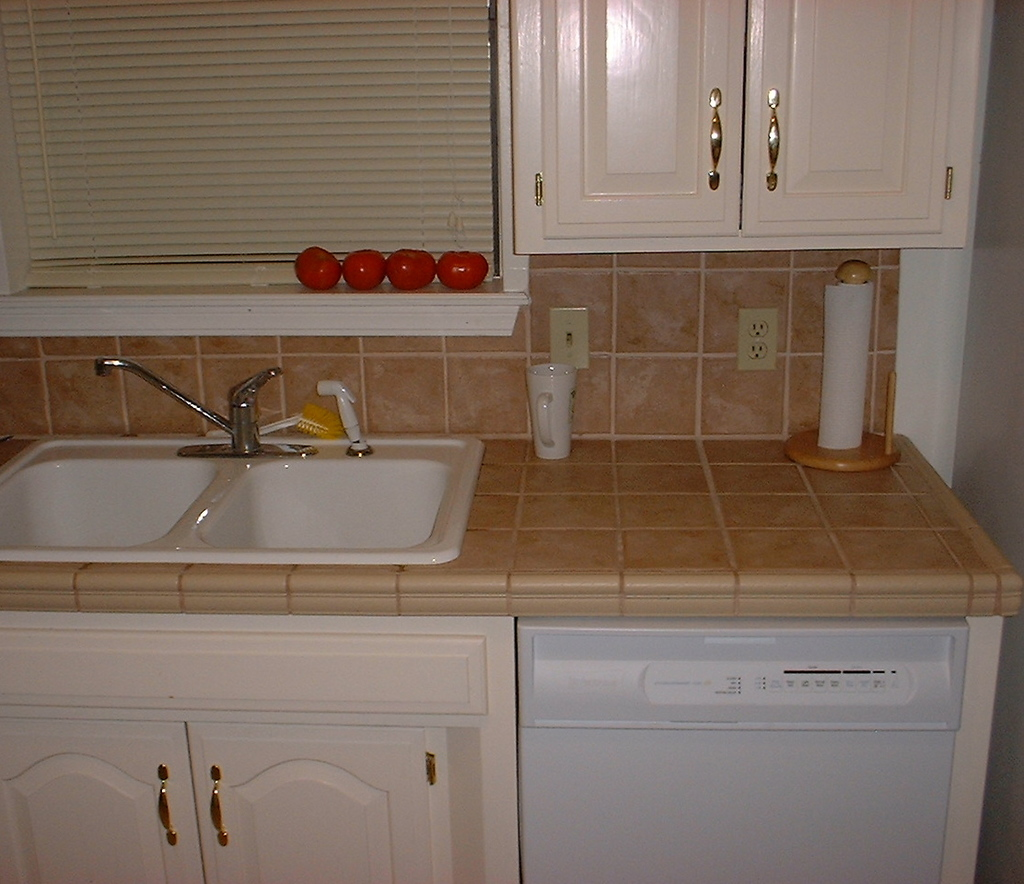cabinet door: (188, 713, 439, 884), (536, 21, 738, 222), (762, 28, 937, 223), (4, 724, 185, 884)
handle: (756, 85, 793, 195), (701, 86, 730, 189), (203, 762, 230, 861), (151, 767, 175, 857)
